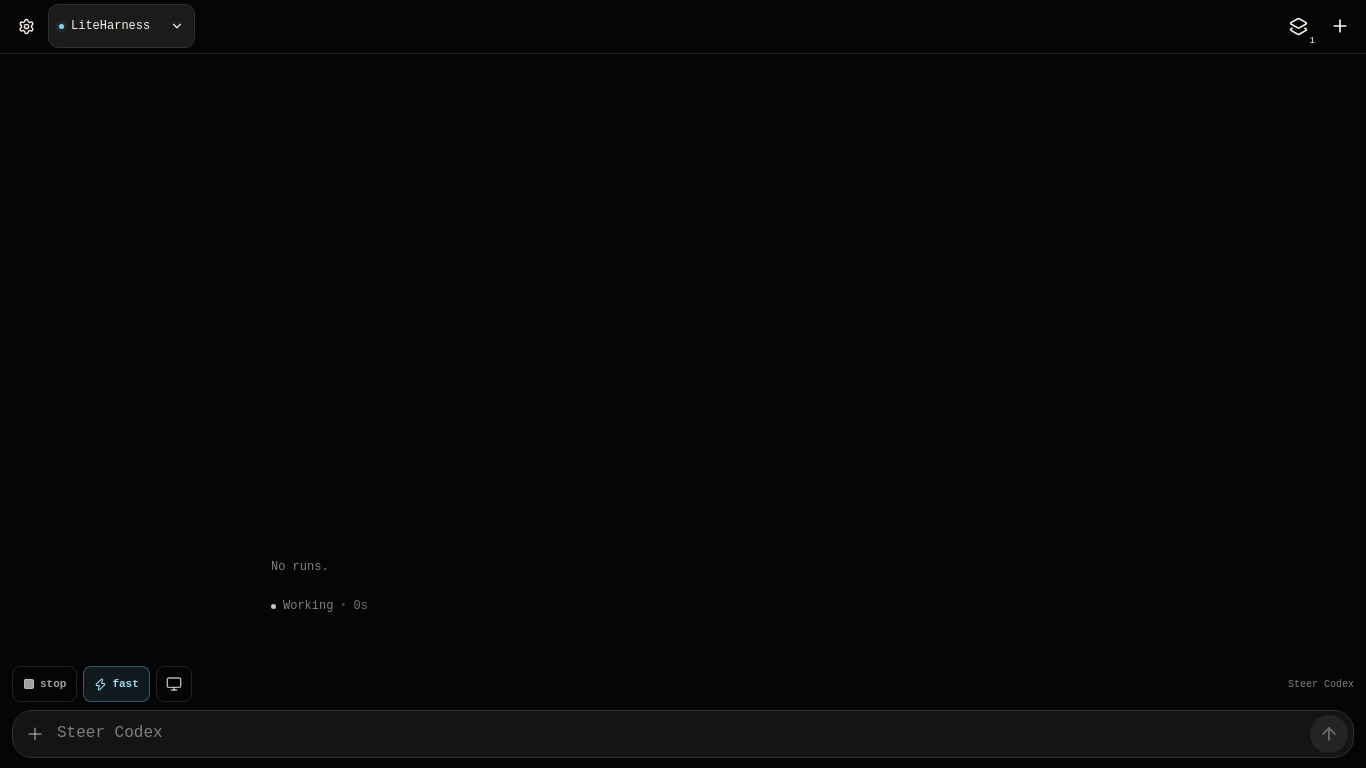
Test: MobileShell heartbeat recovery › keeps an accepted message sent when its follow-up snapshot fails
Type "Already accepted" into the text box named "Prompt" at [683, 734], box [13,711,1353,757]
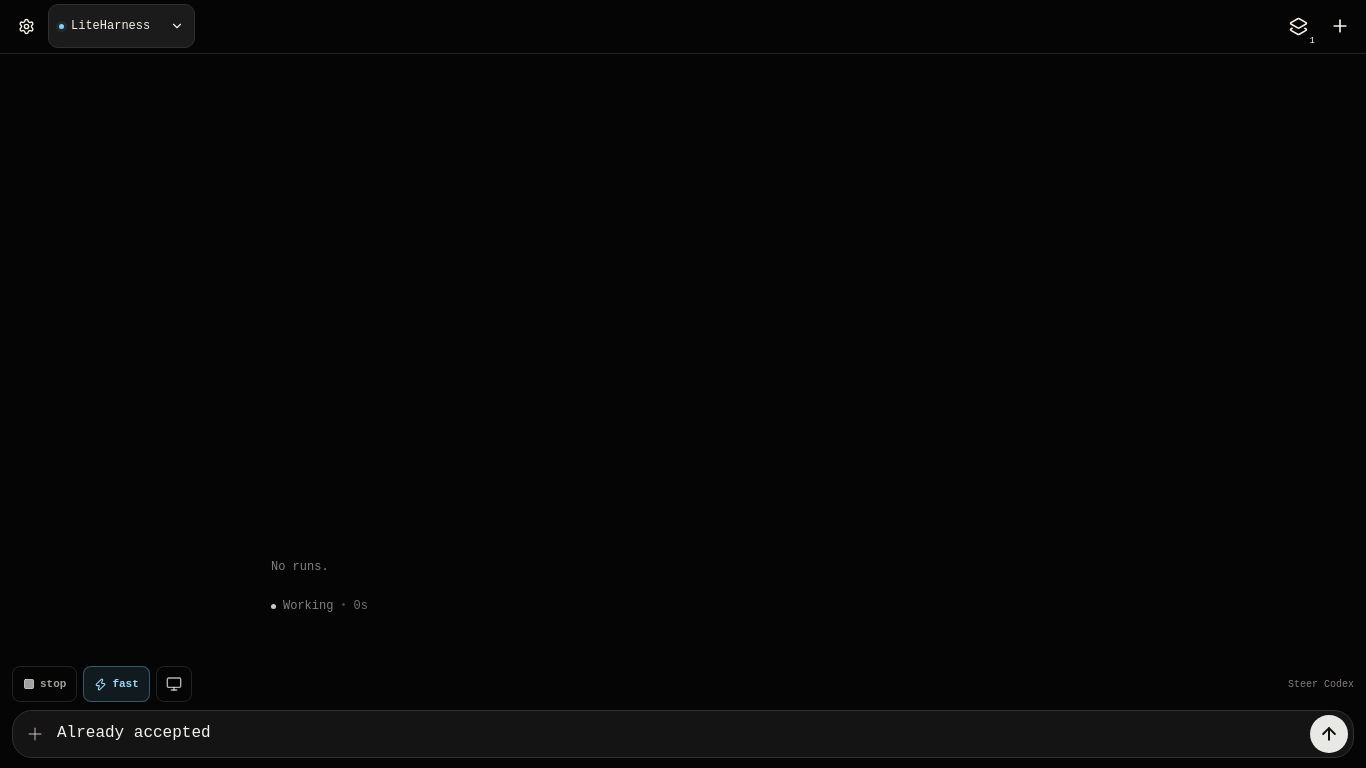
Click the button named "Steer" at [1329, 734], box [1310,715,1348,753]
Wait 2000 ms
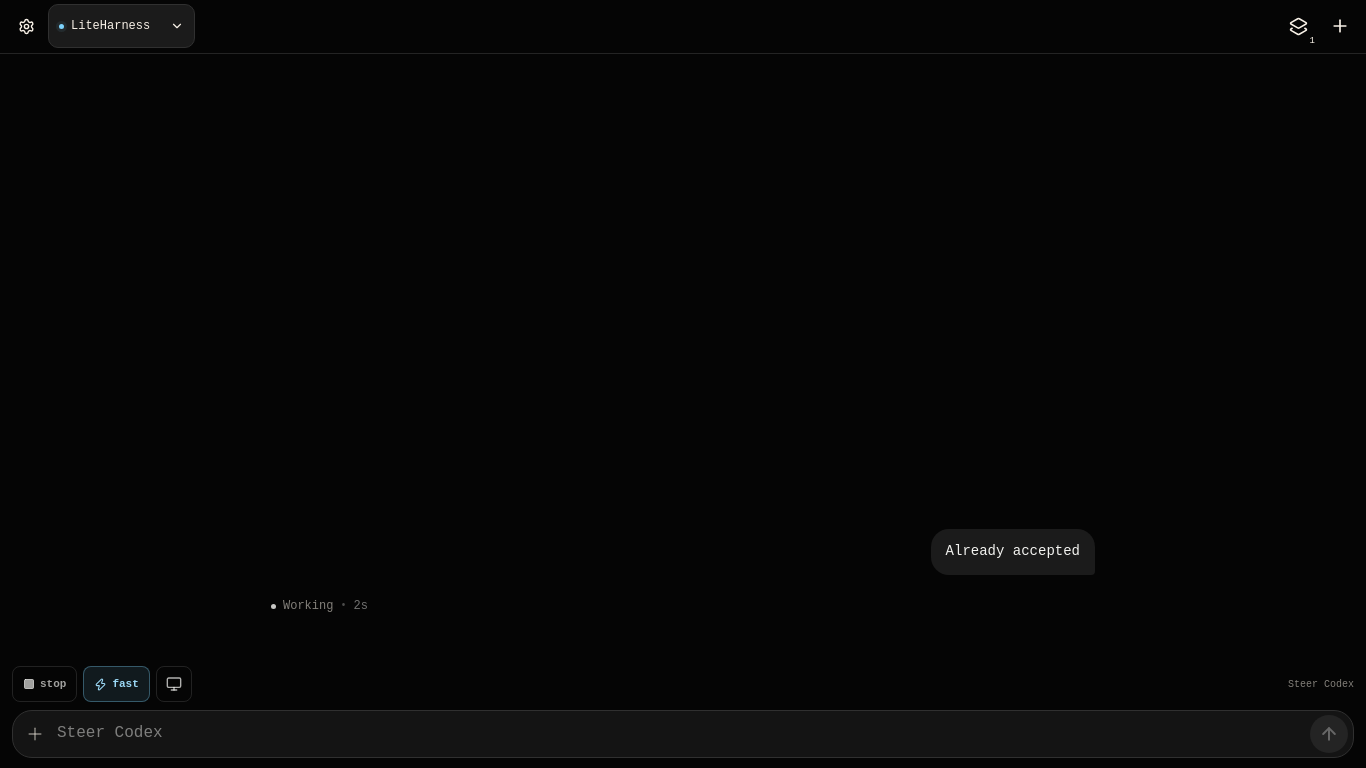
Check: the text box named "Prompt" is empty, box [13,711,1353,757]
Check: the text "Already accepted" is shown, box [946,541,1080,563]
